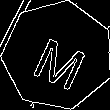M_NE: (26, 23, 89, 87)
